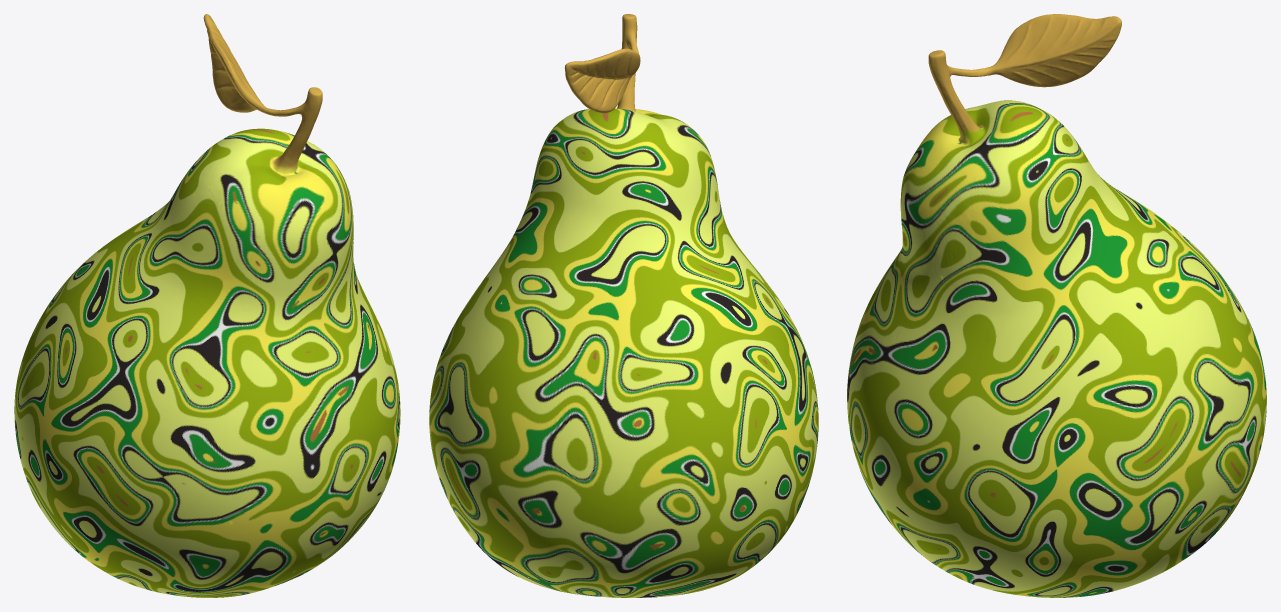
The model's file is pear.glb.
3 views of the same model, side by side, from view 1: azimuth 30°, elevation 25°; view 2: azimuth 150°, elevation 25°; view 3: azimuth 270°, elevation 25° (orthographic). The views are drawn at different scales.
Parts seen in each view (by area): view 1: pear_Body0; view 2: pear_Body0; view 3: pear_Body0.
Boxes of the visible parts, <box> form: pear_Body0: <box>14,14,400,597</box>; pear_Body0: <box>429,14,818,597</box>; pear_Body0: <box>847,14,1266,597</box>.
Bounding box in the file's own units: 1.21 × 1.8 × 1.22.
1 material, 1 textured.
